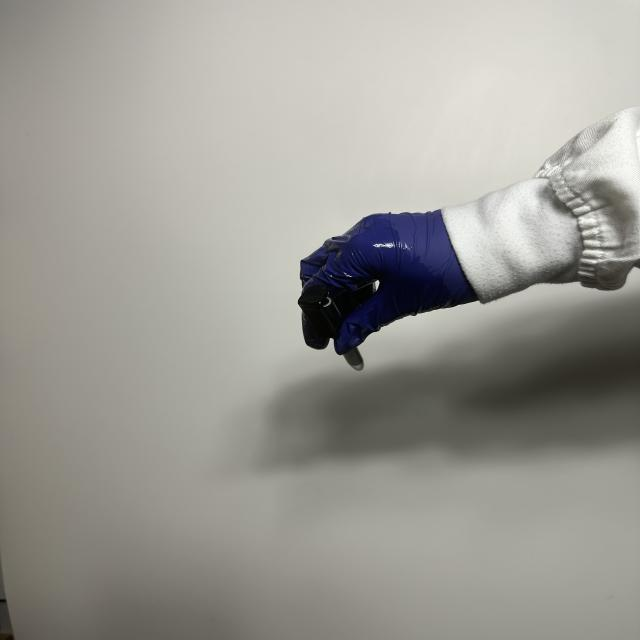gloves_contaminated: (300, 210, 478, 354)
